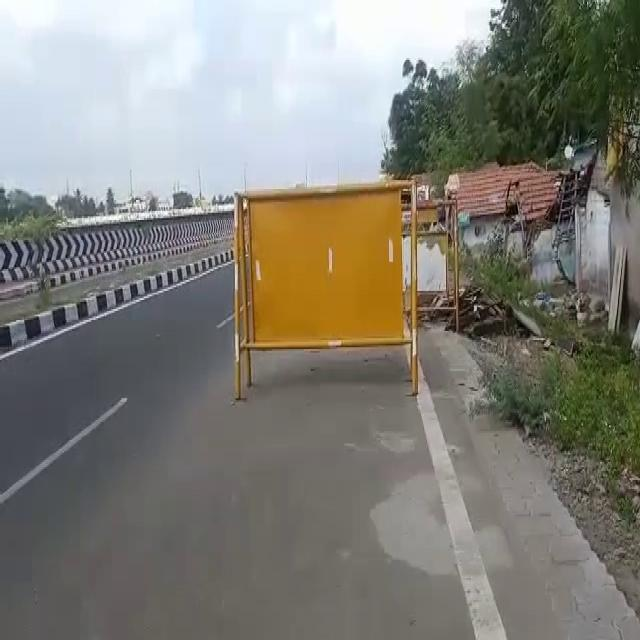fallen_object: (205, 176, 433, 402)
